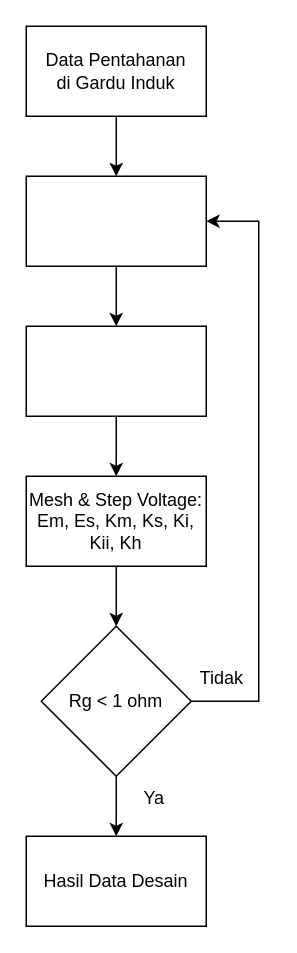
Image size: 297x953. Some labels were removed from this diagram. The shapes that lost their labels are listed below. From the top down, each one's centre as x and y in pixels, then its label:
pixel 115 220: Inisial Desain: nK, L, D, rod
pixel 115 370: Touch & Step Criteria: Etouch50 or 70, Estep50 or 70
